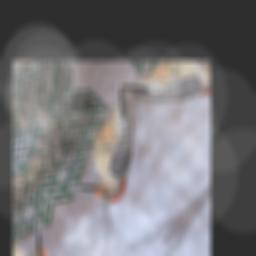Woodpecker: (55, 87, 170, 217)
